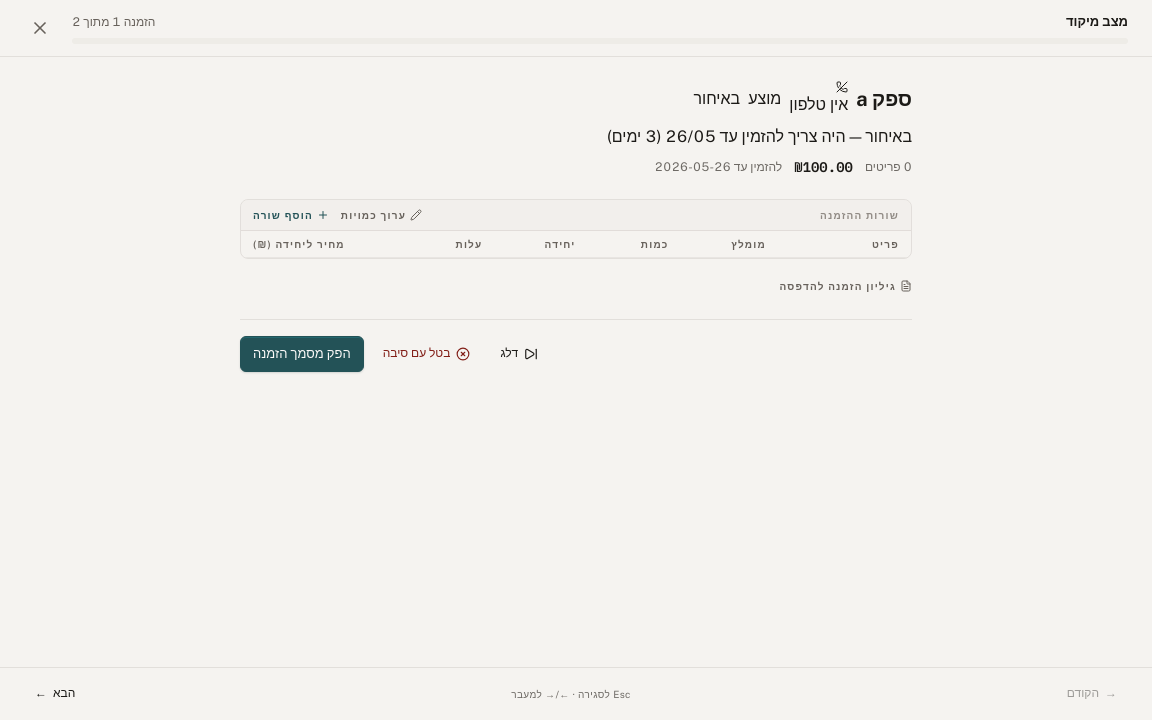
Test: FocusMode › M3 skip optimistically auto-advances to the next order
Step 1. Click the button with test id "focus-skip" → (519, 354), box [489,340,549,368]
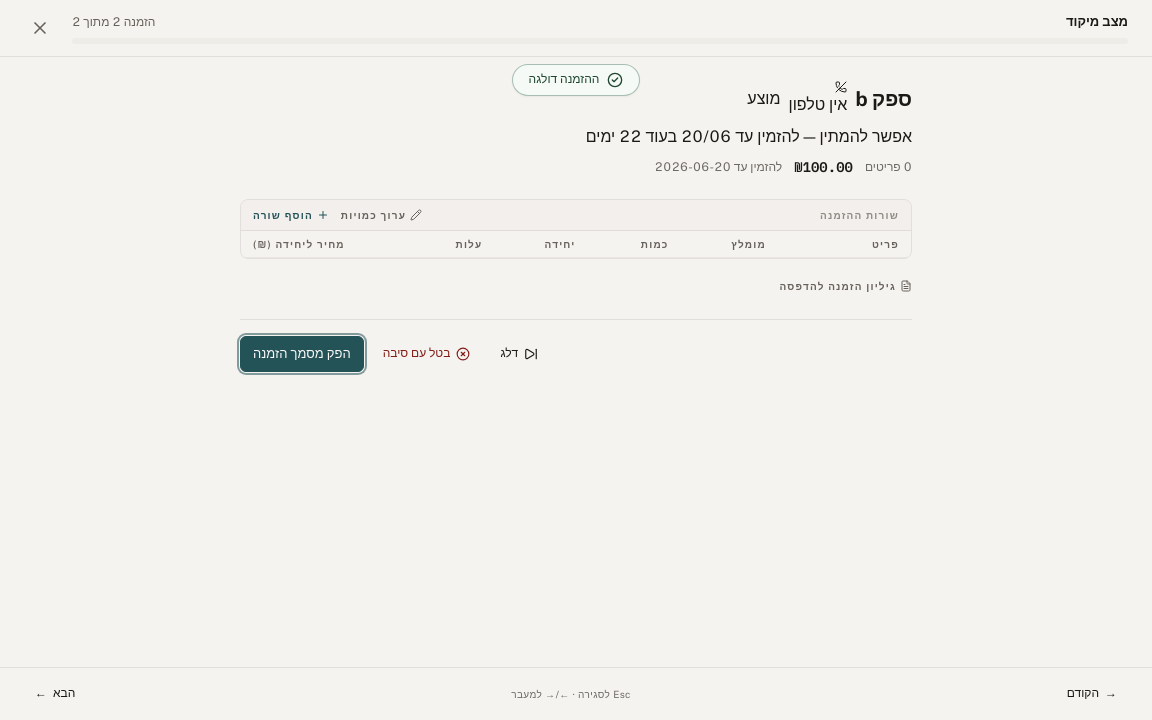
Expected: the element with test id "focus-card-b" is shown, [240,81,912,372]
